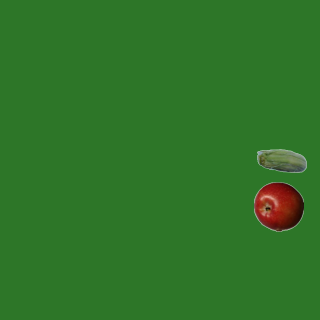Apple Braeburn: (253, 181, 303, 231)
Corn Husk: (256, 137, 306, 187)
